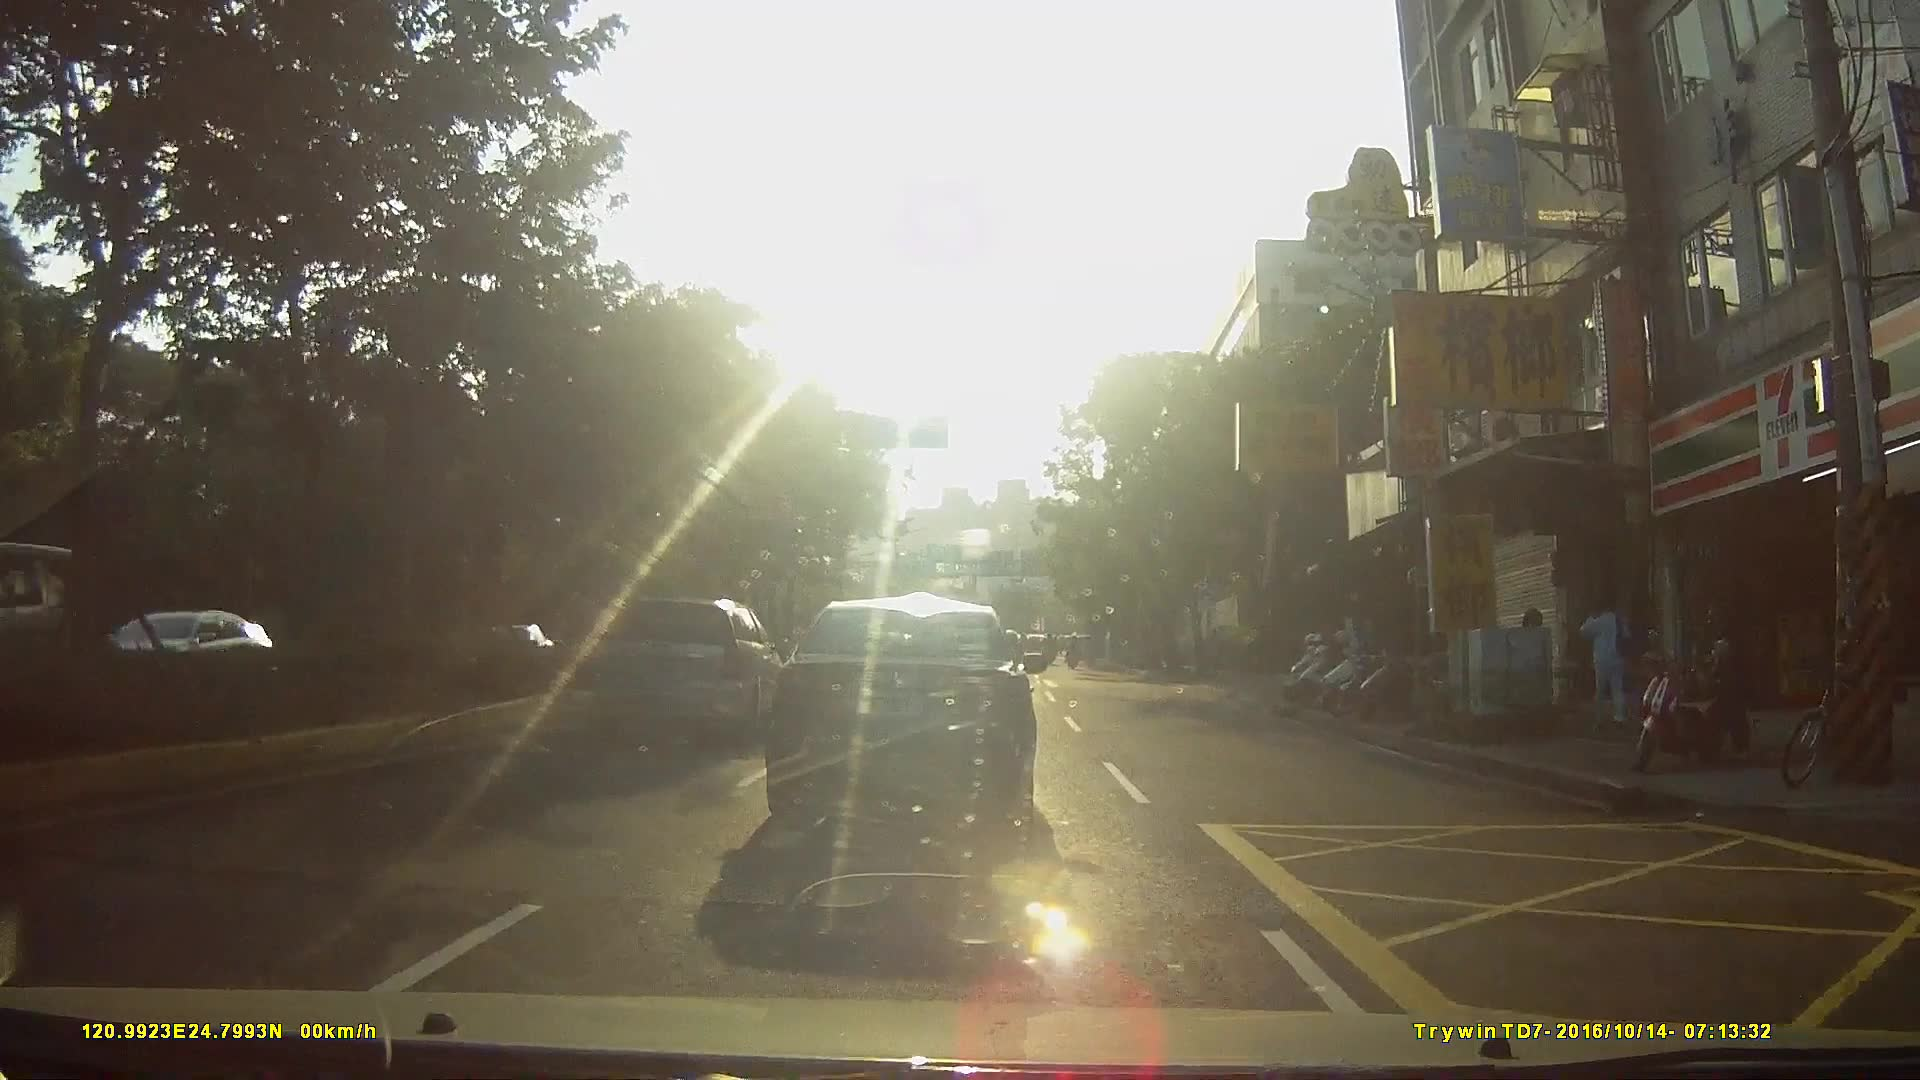pedestrian: (1578, 595, 1640, 725), (1703, 617, 1754, 769)
vehicle: (766, 599, 1053, 839), (600, 594, 791, 735), (85, 605, 274, 700), (1, 548, 107, 713)
